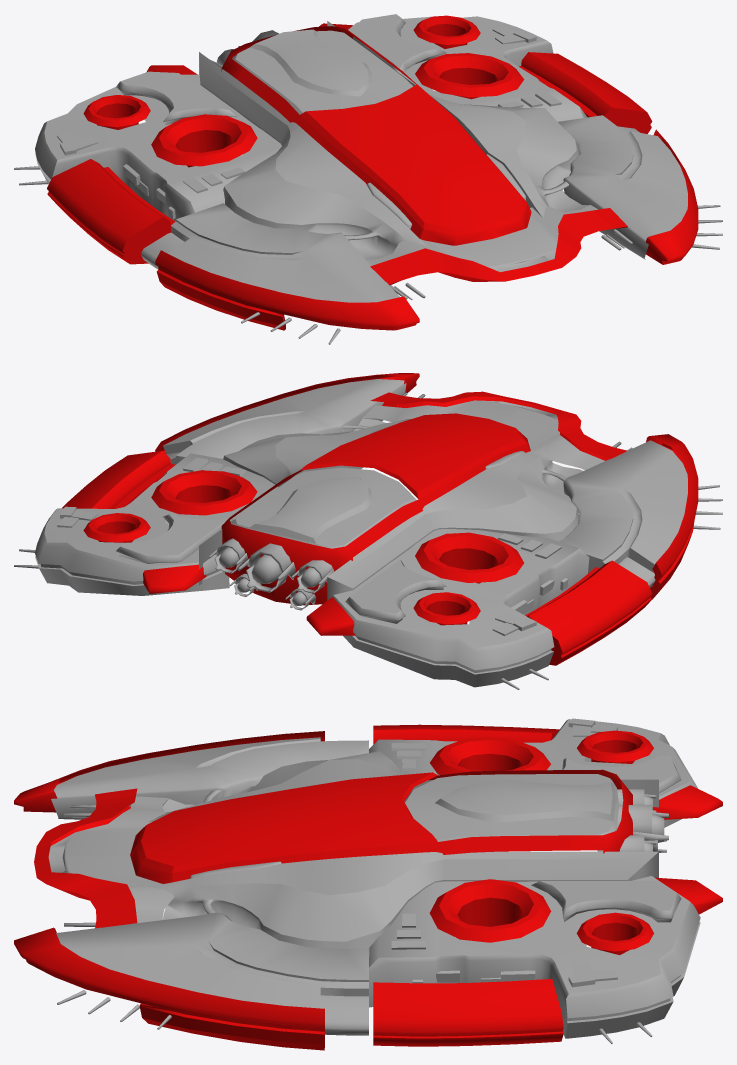
Rendered from Kenos6.fbx.
3 renders of one model, top to bottom at view 1: azimuth 30°, elevation 25°; view 2: azimuth 150°, elevation 25°; view 3: azimuth 270°, elevation 25°, orthographic. The views are drawn at different scales.
Parts seen in each view (by area): view 1: kenos6_diffuse, kenos6_color; view 2: kenos6_diffuse, kenos6_color; view 3: kenos6_diffuse, kenos6_color.
Boxes of the visible parts, x1,y1,x2,y2 form: kenos6_diffuse: (14,14,722,344); kenos6_color: (47,15,698,330); kenos6_diffuse: (14,379,722,689); kenos6_color: (62,373,698,665); kenos6_diffuse: (48,718,700,1043); kenos6_color: (14,724,722,1050).
Size of the model in its own units: 14.81 by 2.81 by 14.84.
